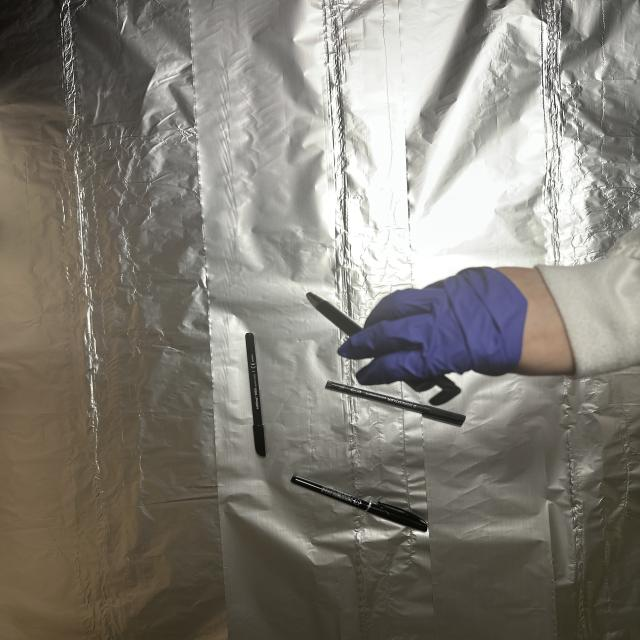glove_partial: (330, 263, 584, 388)
